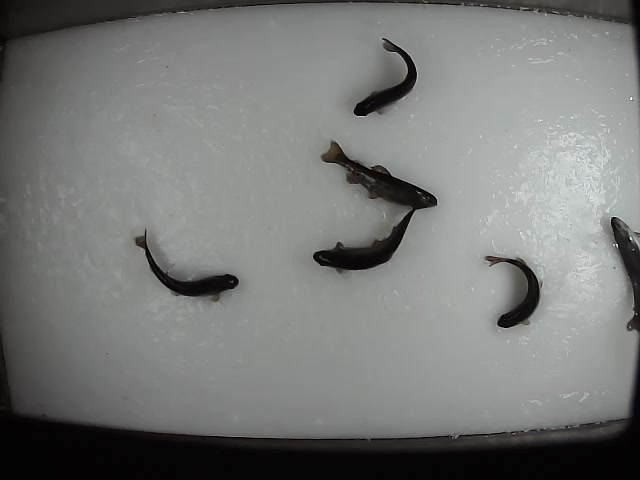Fish: (313, 200, 423, 274), (320, 140, 437, 209), (136, 227, 239, 302), (354, 37, 417, 117), (484, 256, 543, 328)
